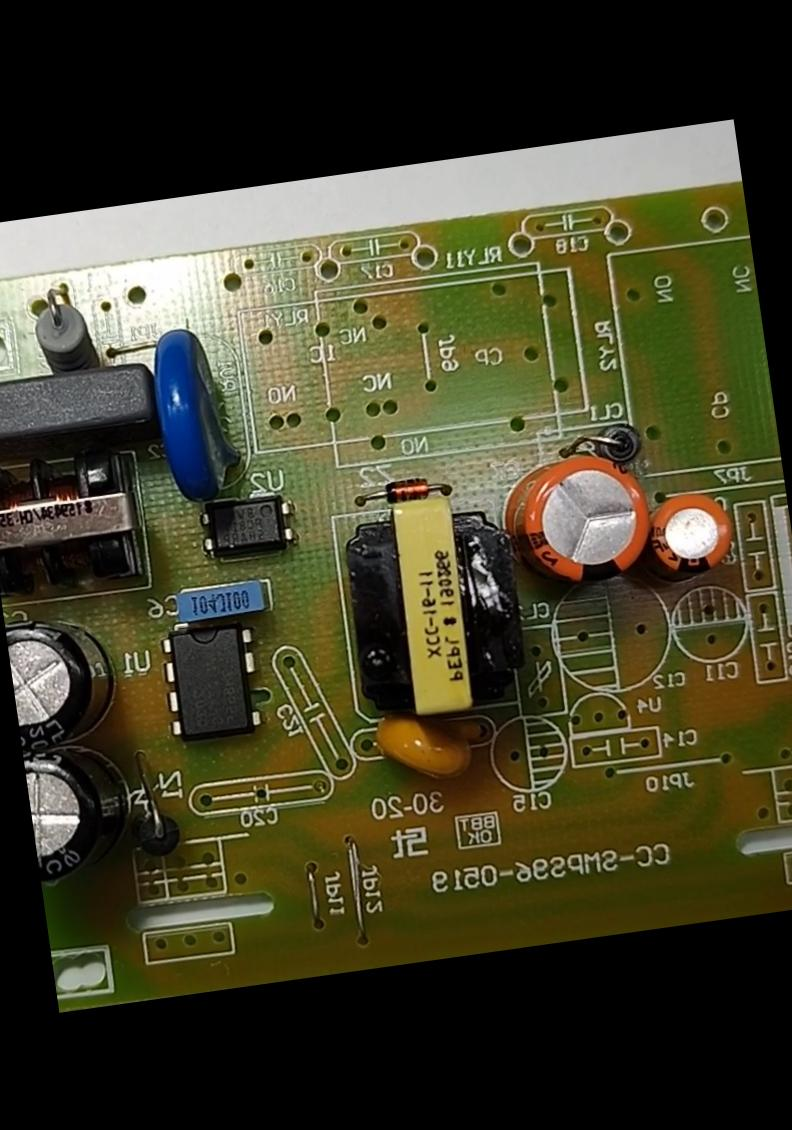Cap1: (526, 456, 653, 583)
Cap2: (654, 492, 733, 566)
Cap3: (4, 607, 114, 739)
Cap4: (23, 744, 139, 876)
MOSFET: (160, 615, 268, 749)
Mov: (144, 321, 250, 499)
Resistor: (32, 283, 100, 365)
Transformer: (346, 493, 526, 720), (0, 446, 144, 593)
